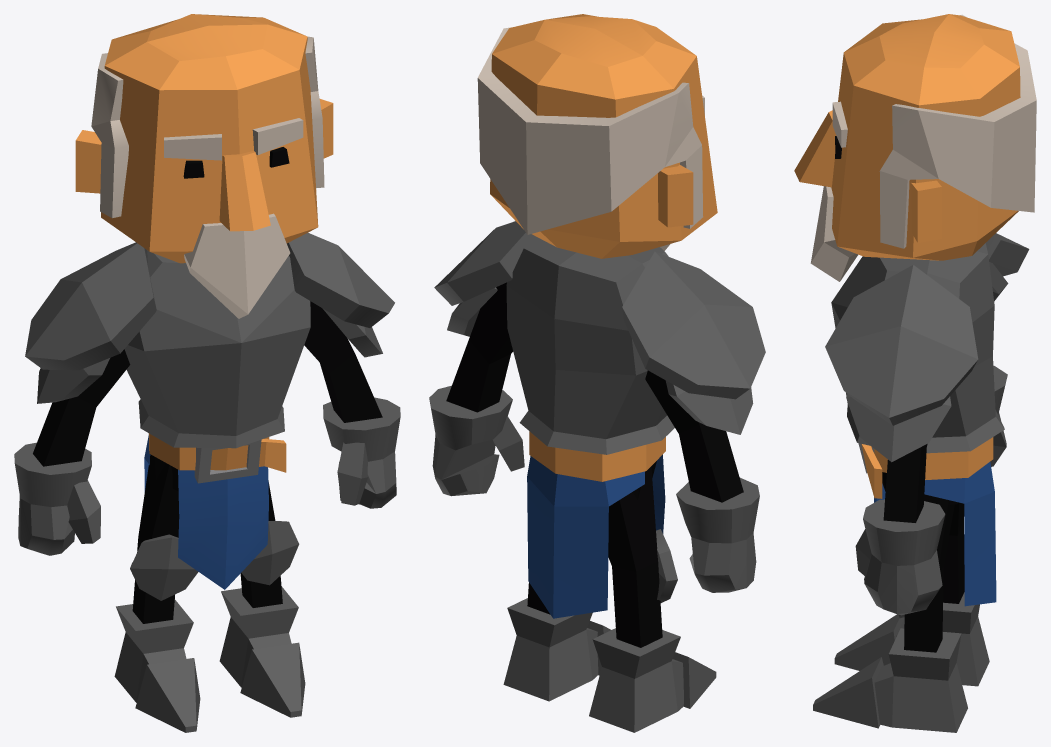
The model's file is npc1.glb.
3 views of the same model, side by side, from view 1: azimuth 30°, elevation 25°; view 2: azimuth 150°, elevation 25°; view 3: azimuth 270°, elevation 25° (orthographic).
Parts seen in each view (by area): view 1: npc1; view 2: npc1; view 3: npc1.
Boxes of the visible parts, x1=… form: npc1: x1=14, y1=14, x2=400, y2=732; npc1: x1=429, y1=14, x2=765, y2=732; npc1: x1=794, y1=14, x2=1036, y2=732.
Bounding box in the file's own units: 0.9079 × 1.64 × 0.5445.
Materials: 1 (1 with a texture image).
